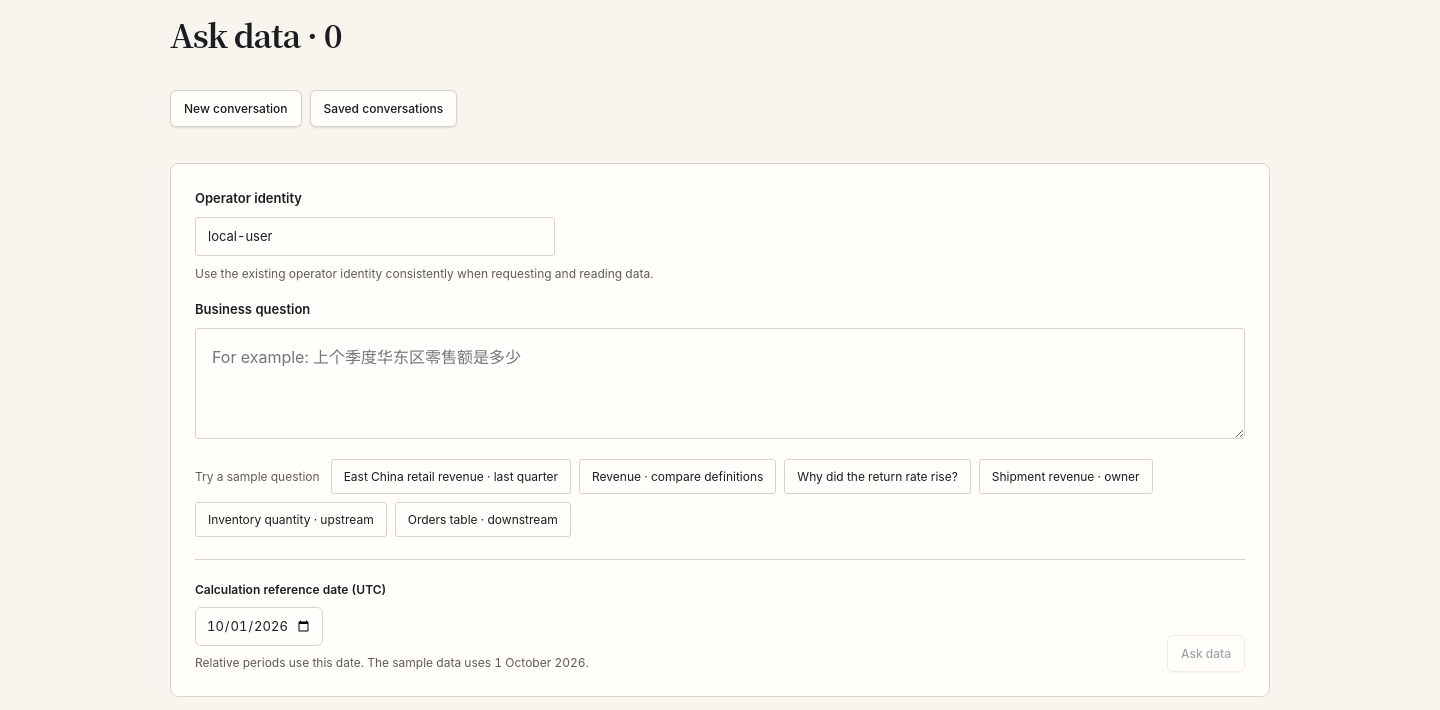
Scenario: repeats the saved question with the selected intent and subject
Type "出货额与哪些指标有关" into the text box labelled "Business question". click: point(720, 383)
box: [195,328,1245,439]
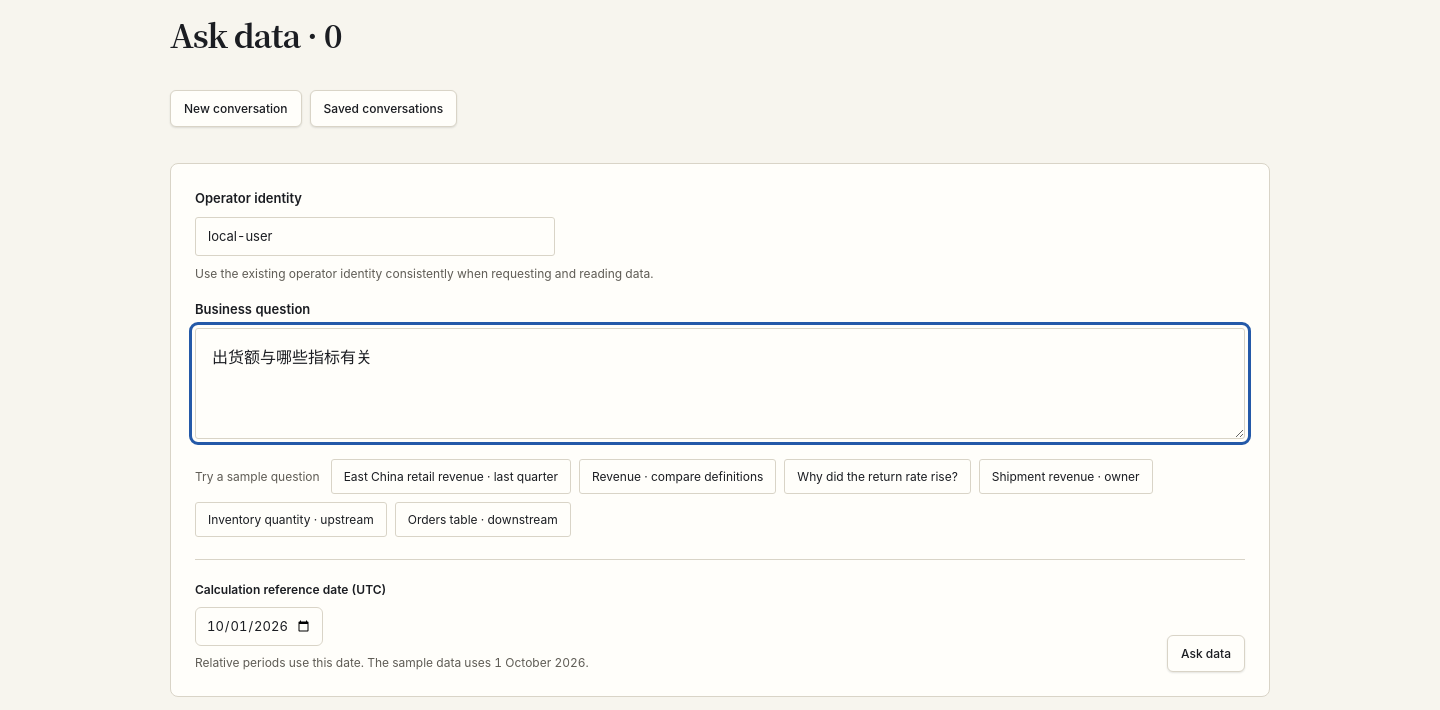
Click the button "Ask data". click: point(1206, 654)
box: [1167,635,1245,672]
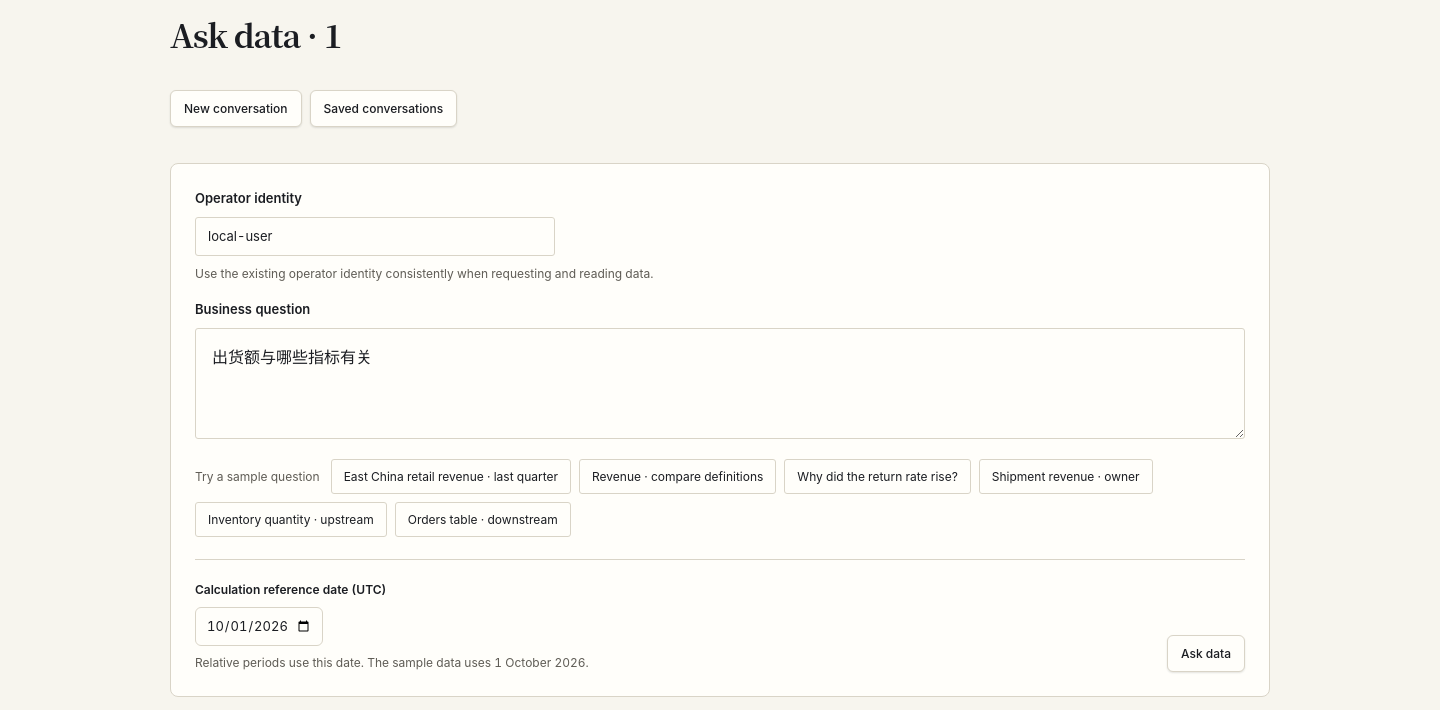
Replace the text in the text box labelled "Business question" with "An unrelated edited question". click: point(720, 383)
box: [195,328,1245,439]
(page scrolled)
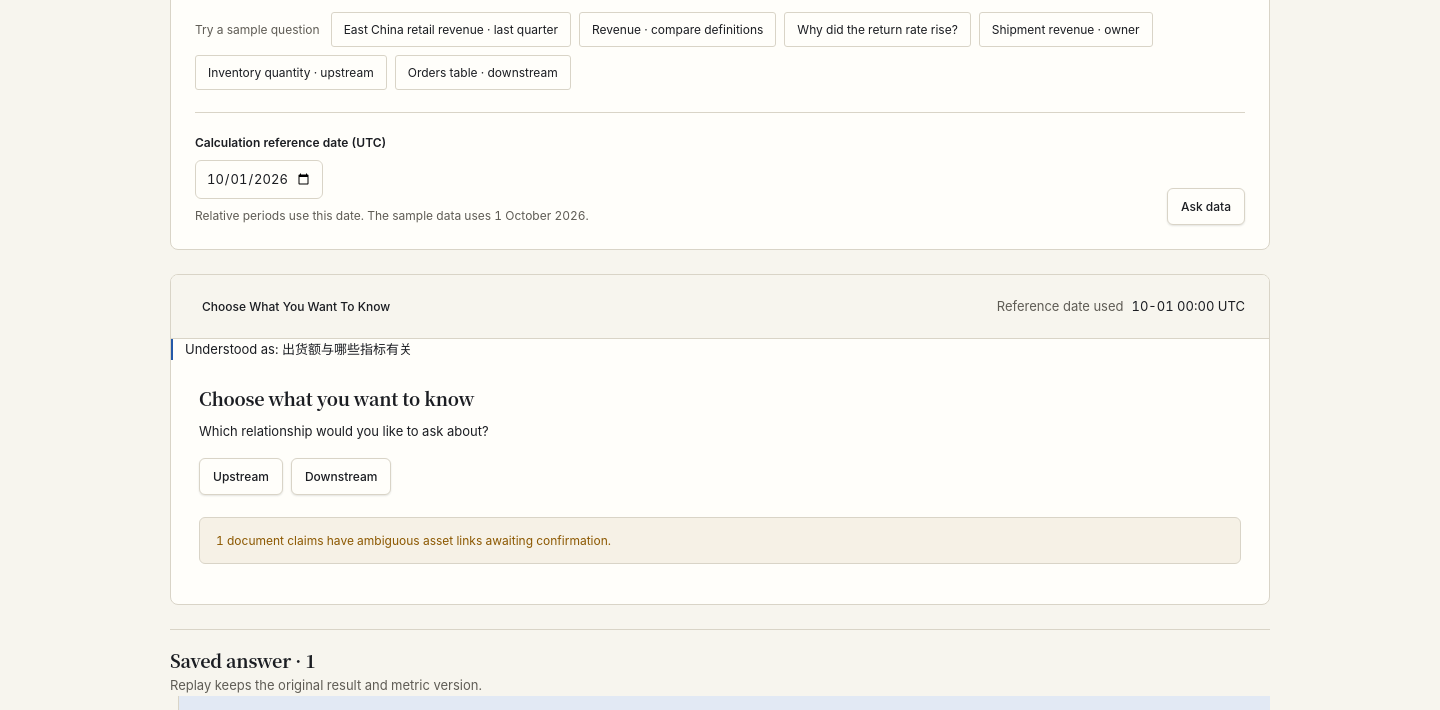
Click the button "Downstream". click: point(341, 476)
box: [291,458,391,495]
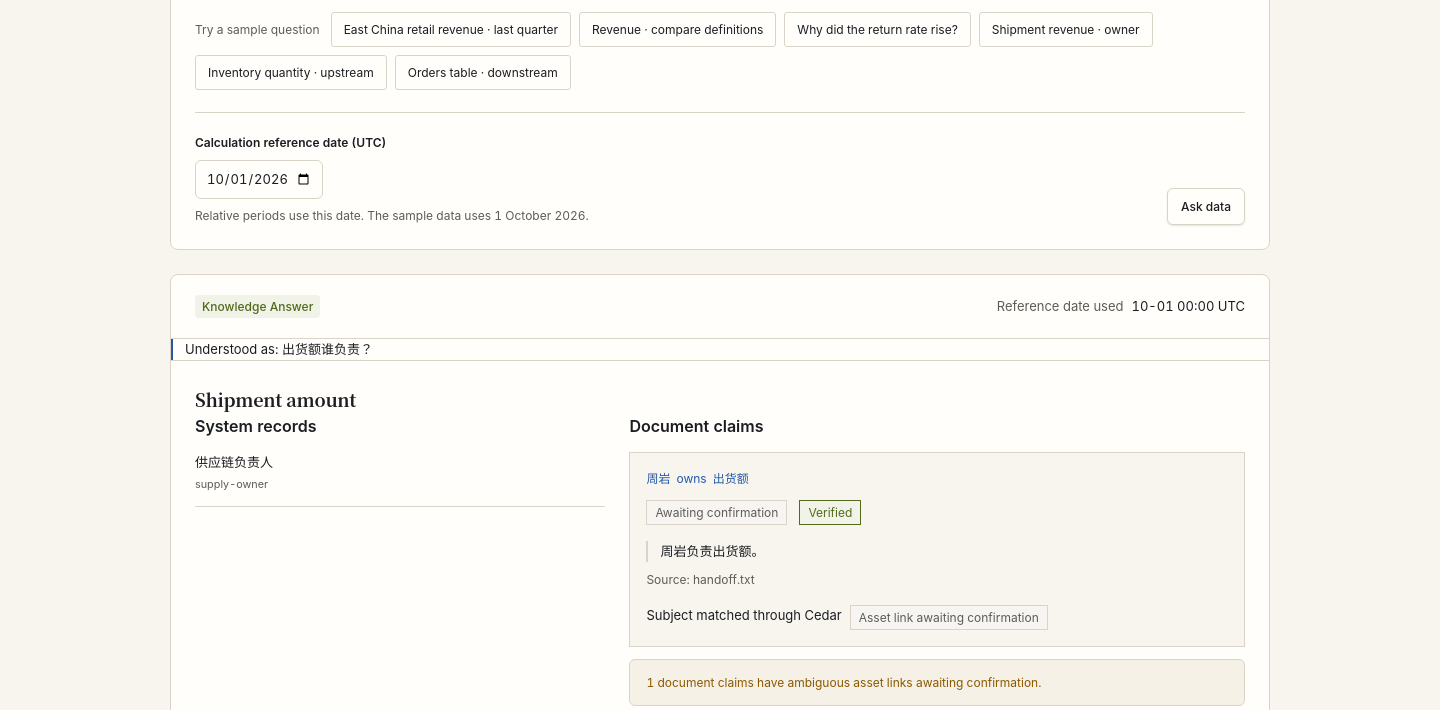
Expected: the element "System records" is shown, [195,416,605,507]
